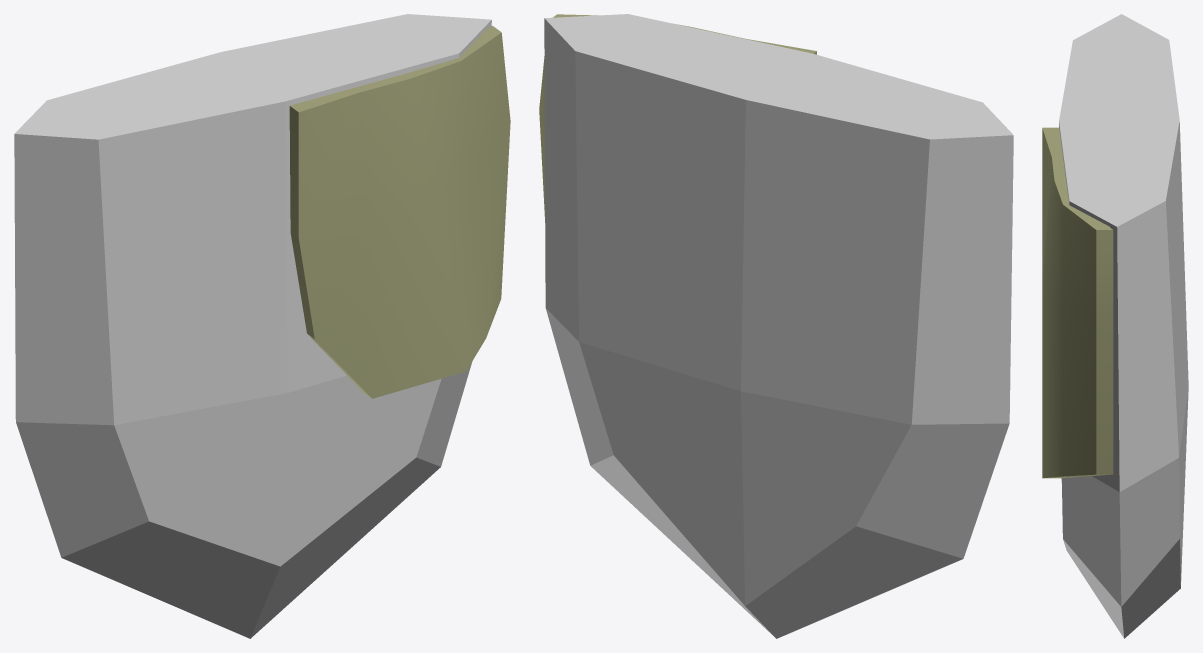
File: dirty_teeth.fbx
3 views of the same model, side by side, from view 1: azimuth 30°, elevation 25°; view 2: azimuth 150°, elevation 25°; view 3: azimuth 270°, elevation 25° (orthographic). The views are drawn at different scales.
Visible parts, largest first — view 1: polySurface115; view 2: polySurface115; view 3: polySurface115.
Part boxes in pixels (x1,y1,x2,y2): polySurface115: [14, 14, 510, 638]; polySurface115: [539, 14, 1013, 638]; polySurface115: [1042, 14, 1188, 638].
Bounding box in the file's own units: 3.87 × 4.33 × 1.11.
